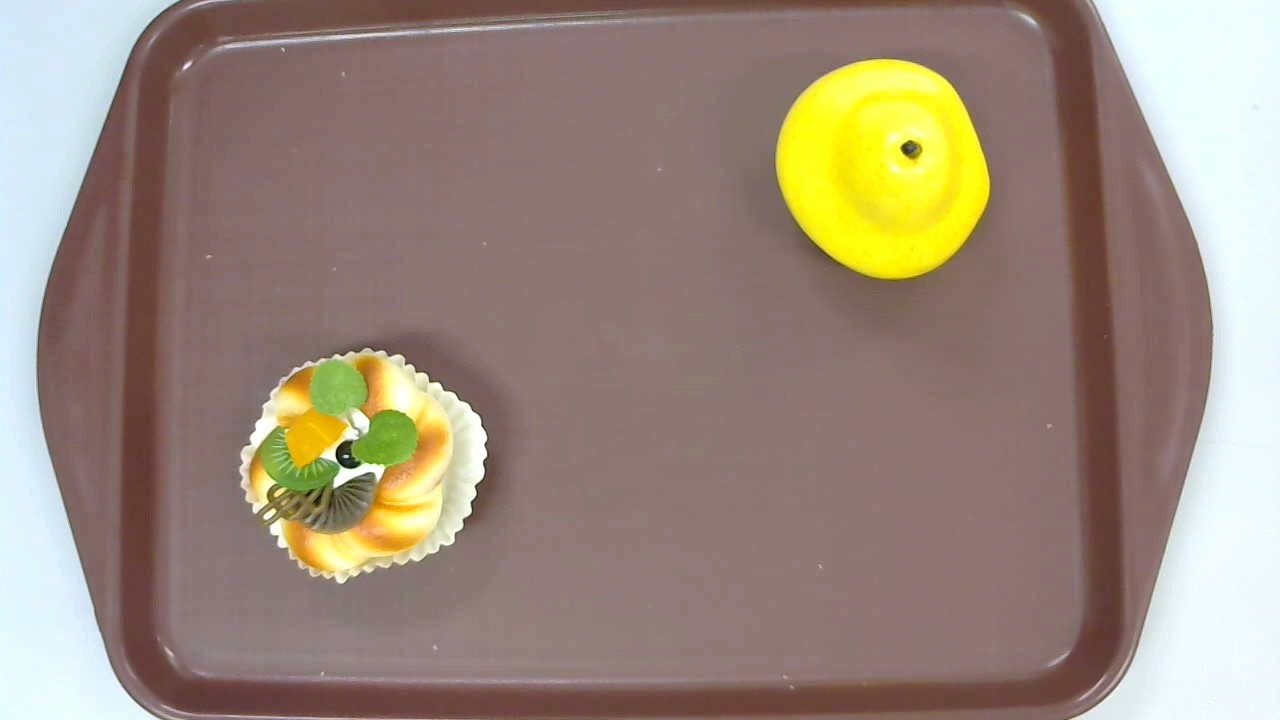fruit tart: (238, 347, 486, 585)
yellow pear: (775, 59, 990, 280)
